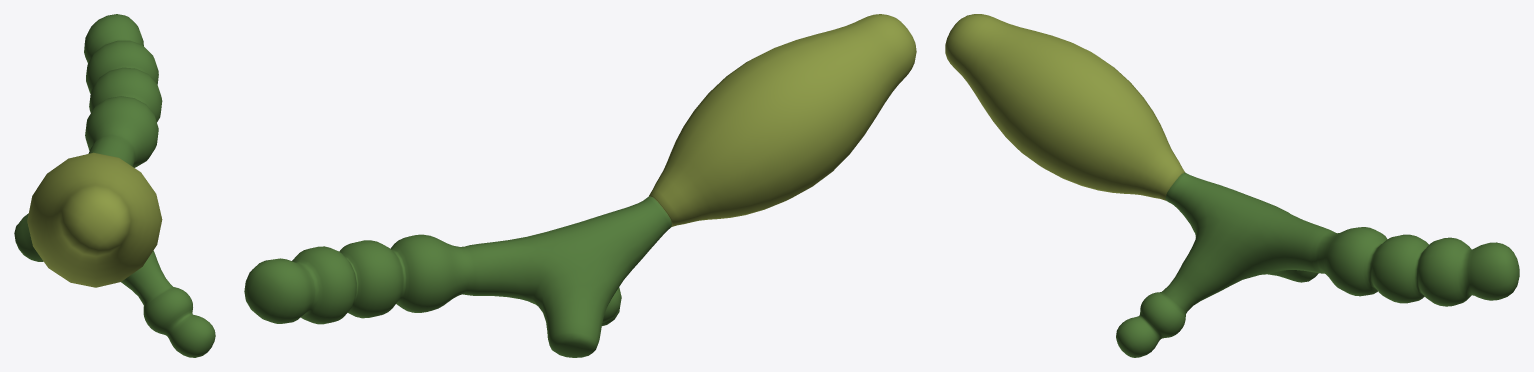
Rendered from spore_bit_three.fbx.
3 renders of one model, left to right at view 1: azimuth 30°, elevation 25°; view 2: azimuth 150°, elevation 25°; view 3: azimuth 270°, elevation 25°, orthographic. The views are drawn at different scales.
Parts seen in each view (by area): view 1: spore bit three; view 2: spore bit three; view 3: spore bit three.
Part boxes in pixels (x1=…): spore bit three: x1=14, y1=14, x2=215, y2=357; spore bit three: x1=244, y1=14, x2=916, y2=357; spore bit three: x1=945, y1=14, x2=1519, y2=357.
Bounding box in the file's own units: 430 × 321 × 652.
